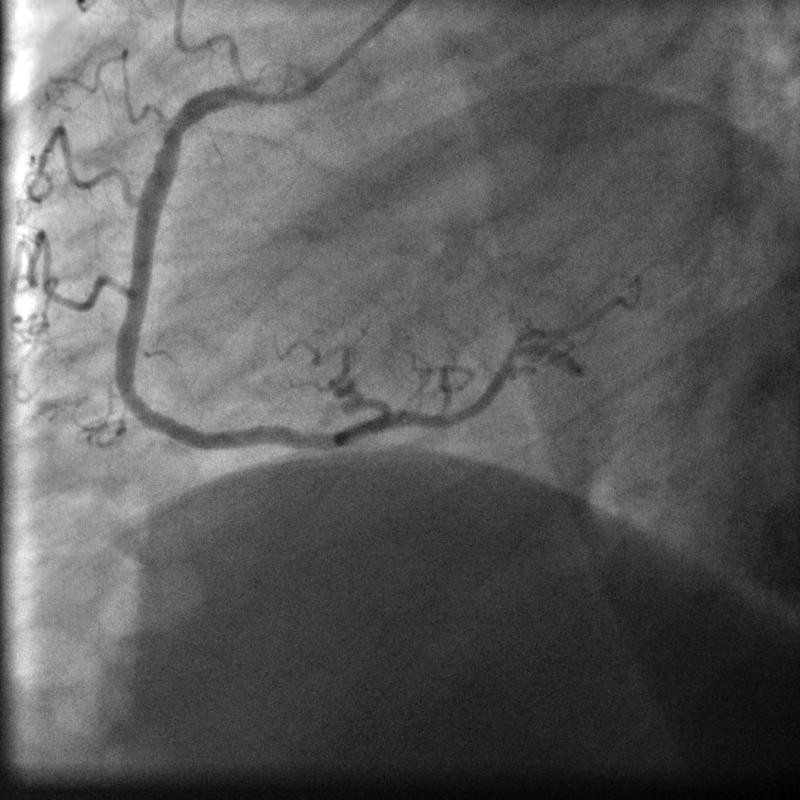Stenosis: (165, 101, 193, 155)
